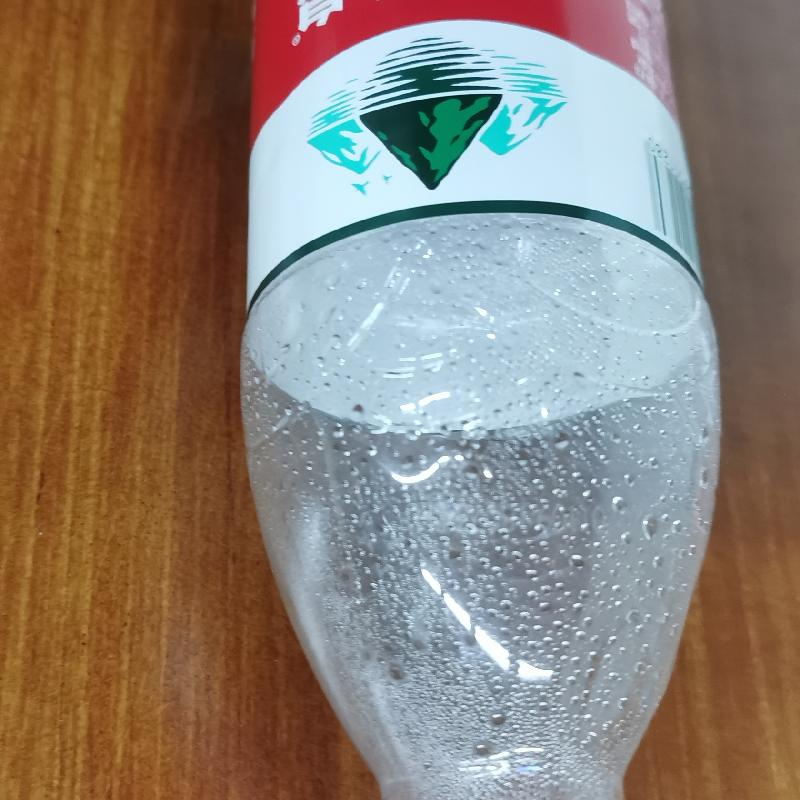bottles: (237, 3, 722, 799)
